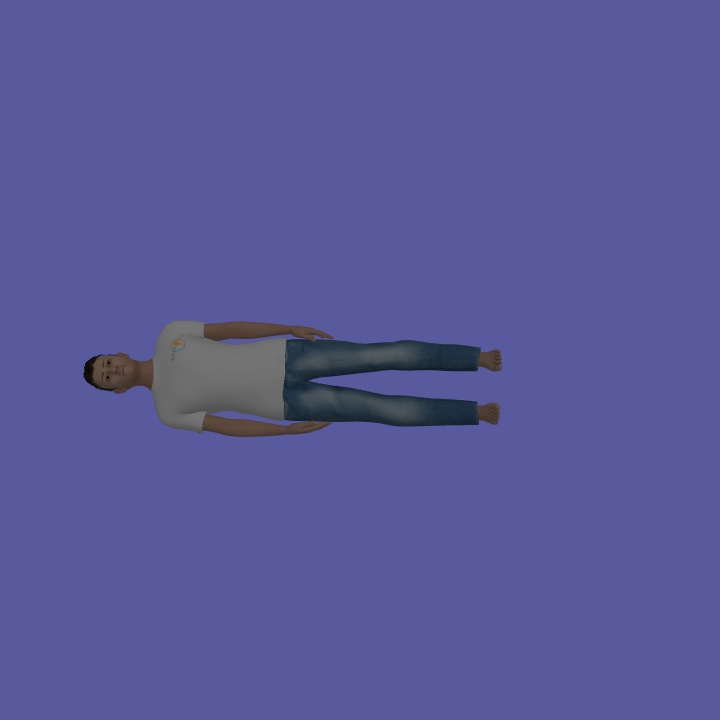victim: (81, 313, 504, 439)
